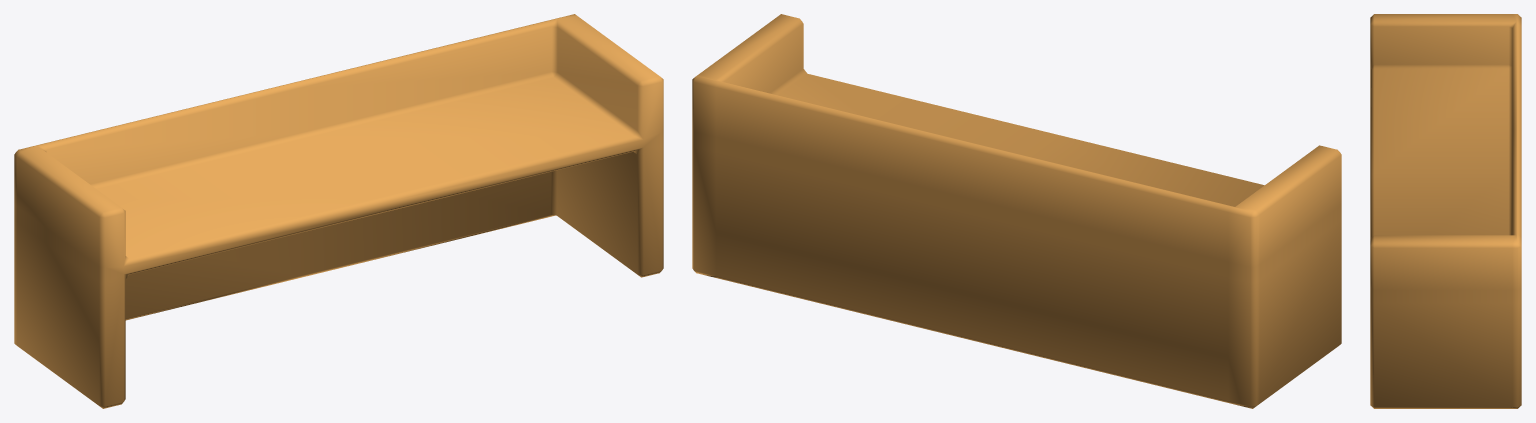
The model's file is ServiceDesk.fbx.
The picture shows the model from 3 angles, left to right: view 1: azimuth 30°, elevation 25°; view 2: azimuth 150°, elevation 25°; view 3: azimuth 270°, elevation 25°; orthographic projection. The views are drawn at different scales.
Parts seen in each view (by area): view 1: Cube; view 2: Cube; view 3: Cube.
Part boxes in pixels (bbox=[...]): Cube: bbox=[14, 14, 663, 408]; Cube: bbox=[692, 14, 1341, 408]; Cube: bbox=[1370, 14, 1521, 408].
Bounding box in the file's own units: 300 × 100 × 82.45.
